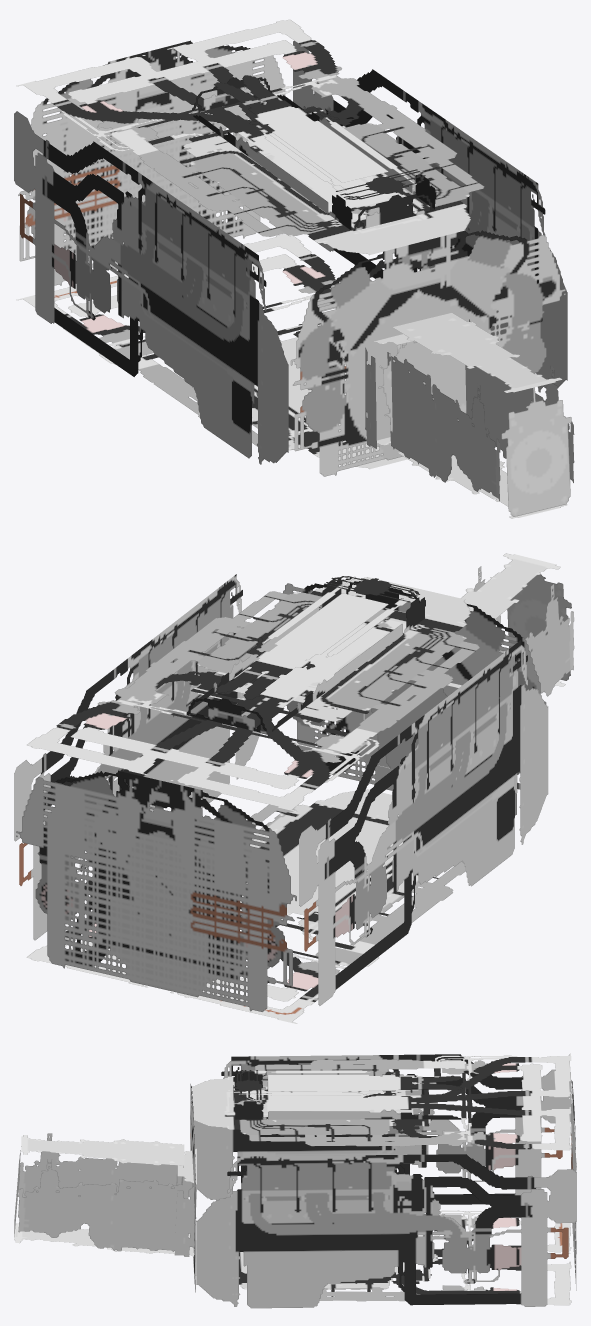
File: v8-engine-512.glb
3 views of the same model, one above another, from view 1: azimuth 30°, elevation 25°; view 2: azimuth 150°, elevation 25°; view 3: azimuth 270°, elevation 25° (orthographic). The views are drawn at different scales.
Parts seen in each view (by area): view 1: box_impostor; view 2: box_impostor; view 3: box_impostor.
Boxes of the visible parts, <box> form: box_impostor: <box>14,19,574,518</box>; box_impostor: <box>14,553,574,1023</box>; box_impostor: <box>14,1053,576,1308</box>.
Bounding box in the file's own units: 0.8807 × 0.6905 × 2.01.
Materials: 1 (1 with a texture image).
